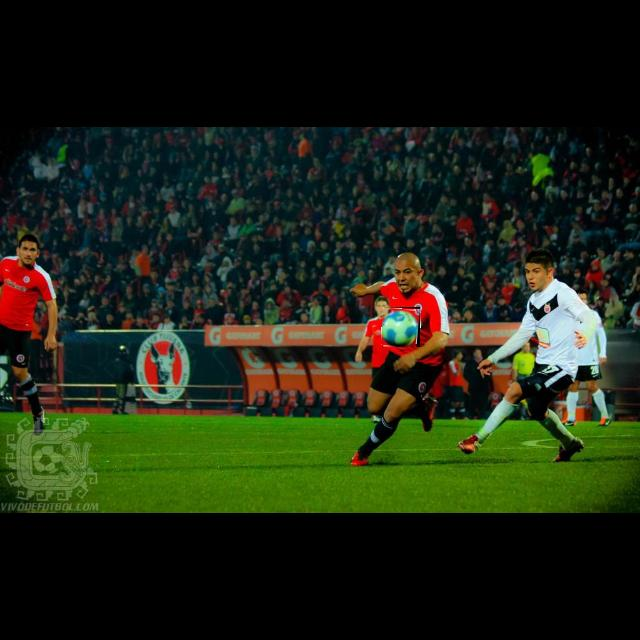Football: (382, 307, 420, 347)
